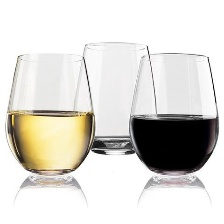glass: (0, 46, 96, 189), (57, 33, 166, 158), (126, 47, 224, 180)
